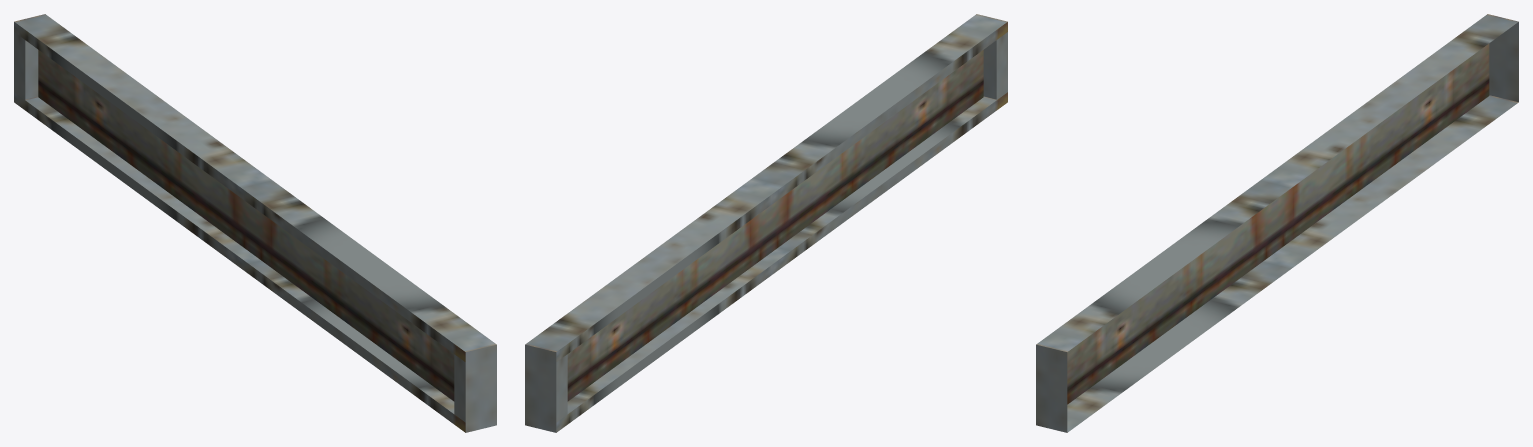
The model's file is SM_CABLES_02.fbx.
The picture shows the model from 3 angles, left to right: view 1: azimuth 30°, elevation 25°; view 2: azimuth 150°, elevation 25°; view 3: azimuth 330°, elevation 25°; orthographic projection.
Visible parts, largest first — view 1: SM_CABLES_02; view 2: SM_CABLES_02; view 3: SM_CABLES_02.
Part boxes in pixels (x1,y1,x2,y2): SM_CABLES_02: (14,14,496,432); SM_CABLES_02: (525,14,1007,432); SM_CABLES_02: (1036,14,1518,432).
Size of the model in its own units: 0.1598 by 0.3945 by 4.
